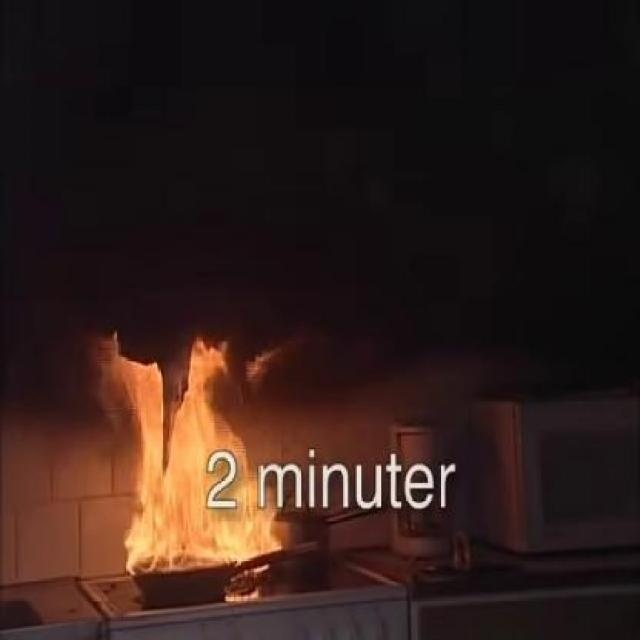fire: (78, 301, 332, 617)
